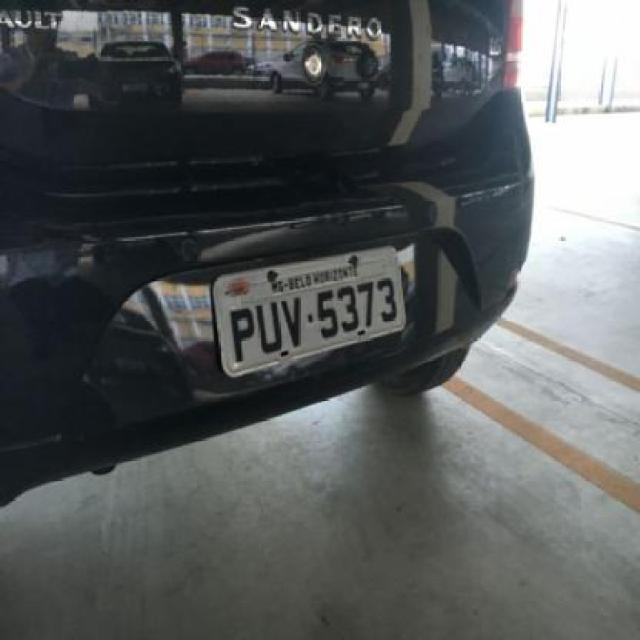old_plate: (208, 240, 413, 385)
